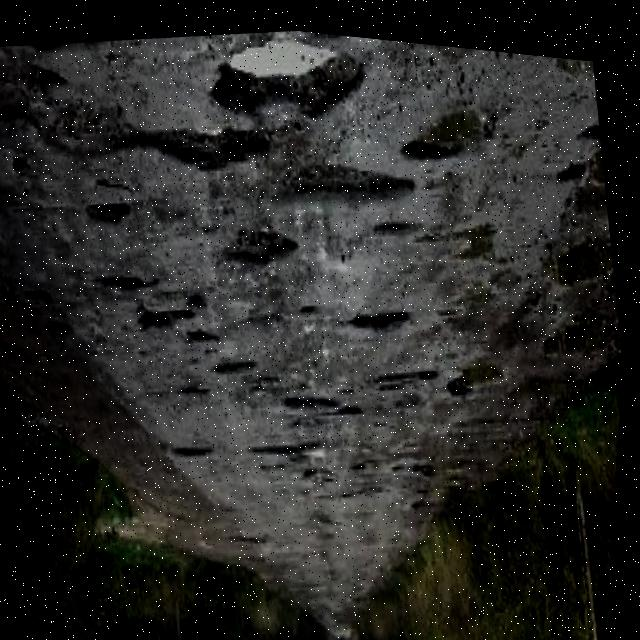Pothole: (205, 17, 380, 137), (256, 141, 421, 219), (539, 45, 617, 205), (393, 79, 503, 168), (0, 36, 81, 152), (219, 216, 308, 271), (448, 345, 513, 396), (140, 290, 202, 336), (351, 294, 419, 335), (85, 187, 138, 231), (287, 378, 345, 418), (104, 261, 155, 299)
